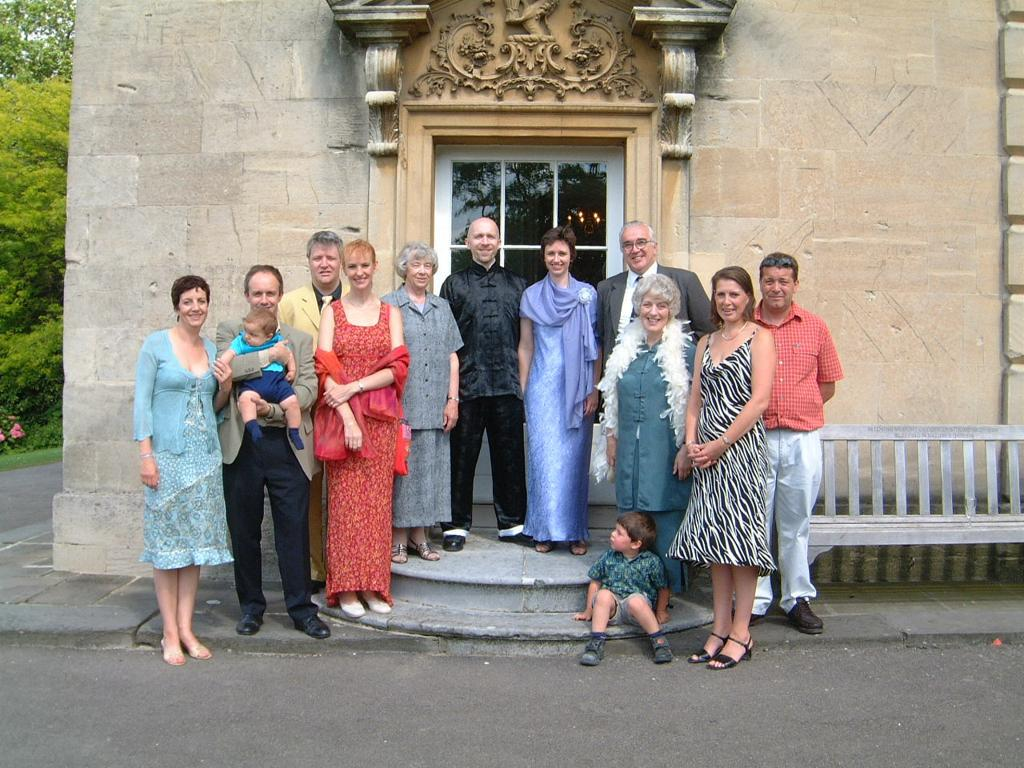face: (761, 271, 794, 309), (621, 235, 653, 270), (715, 286, 746, 321), (641, 293, 669, 331), (311, 248, 341, 283), (469, 230, 500, 262), (249, 284, 280, 316), (179, 292, 208, 326), (346, 257, 374, 290), (545, 246, 570, 275), (410, 261, 433, 288), (611, 527, 633, 551), (244, 325, 266, 347)
